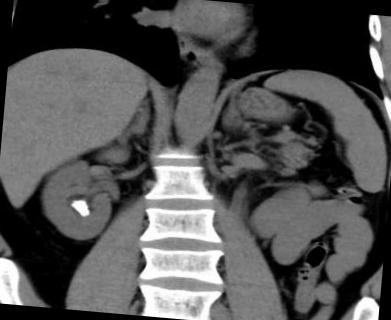Tas_Var: (68, 197, 98, 220)
